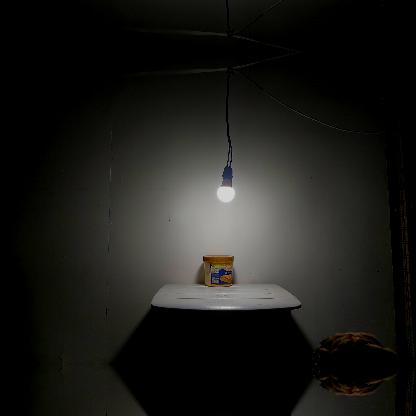Lady-s-Choice: (202, 254, 234, 288)
